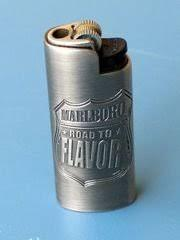lighter: (42, 19, 140, 212)
